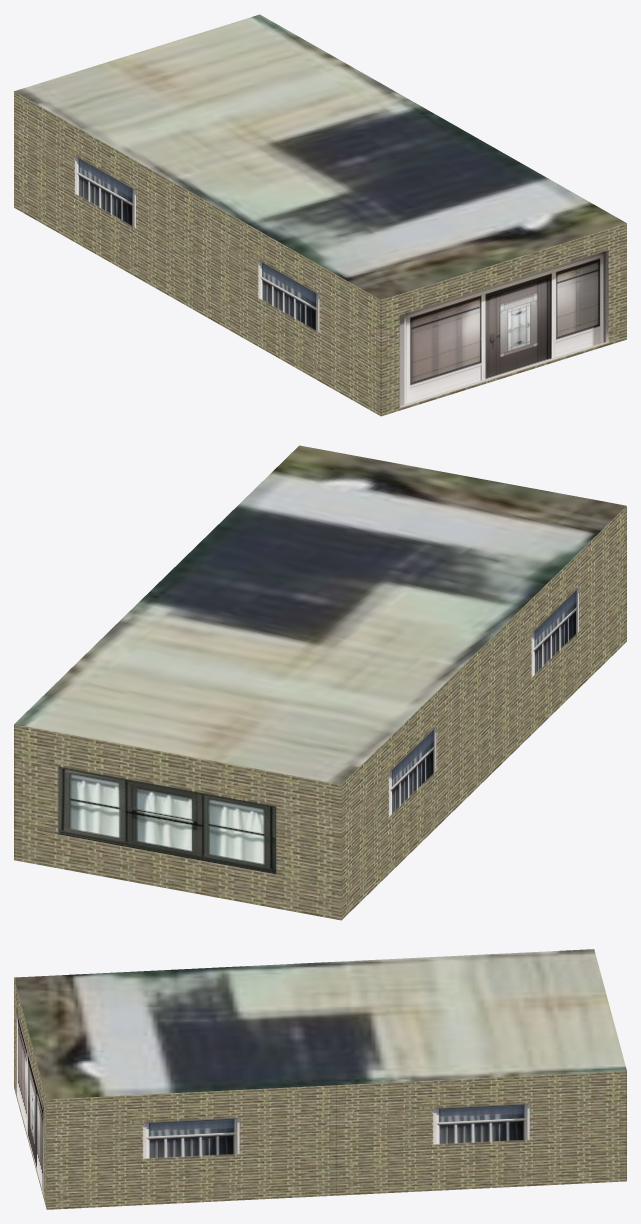
Rendered from tile_LOD8_r7_c4.glb.
3 renders of one model, top to bottom at view 1: azimuth 30°, elevation 25°; view 2: azimuth 150°, elevation 25°; view 3: azimuth 270°, elevation 25°, orthographic. The views are drawn at different scales.
Bounding box in the file's own units: 8.23 × 2.82 × 14.18.
4 materials, 4 textured.
